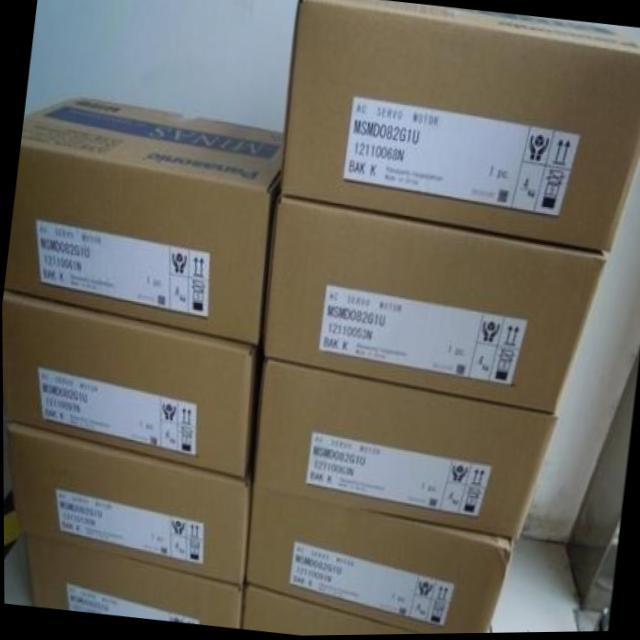box: (282, 0, 640, 252), (262, 193, 607, 413), (3, 92, 283, 345), (251, 359, 558, 541), (2, 285, 260, 481), (5, 416, 251, 586), (243, 488, 512, 635), (25, 533, 244, 625), (243, 581, 419, 636)
